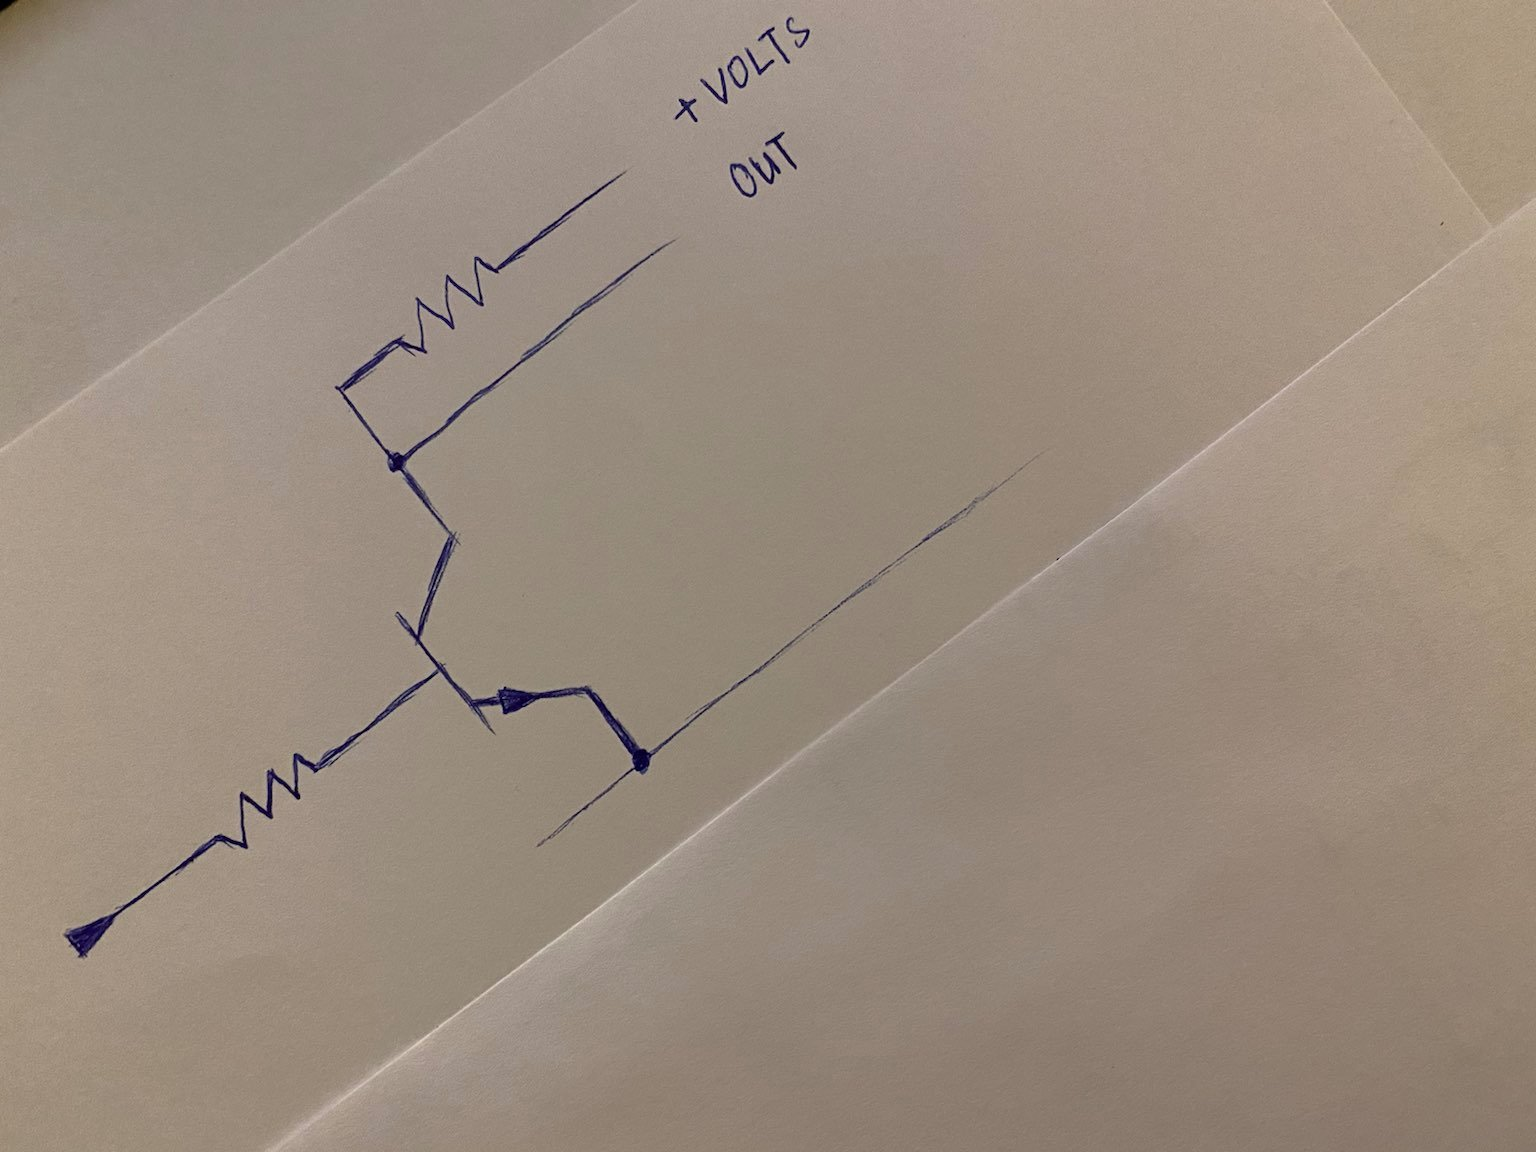junction: (375, 434, 423, 485), (622, 738, 663, 788), (330, 379, 352, 399)
resistor: (197, 741, 334, 864), (383, 249, 508, 357)
terminal: (50, 904, 151, 964), (1023, 445, 1052, 470), (658, 234, 680, 257), (606, 166, 628, 189), (533, 831, 558, 852)
text: (698, 15, 825, 103), (726, 125, 807, 203), (665, 90, 698, 127)
transistor: (386, 514, 608, 744)
